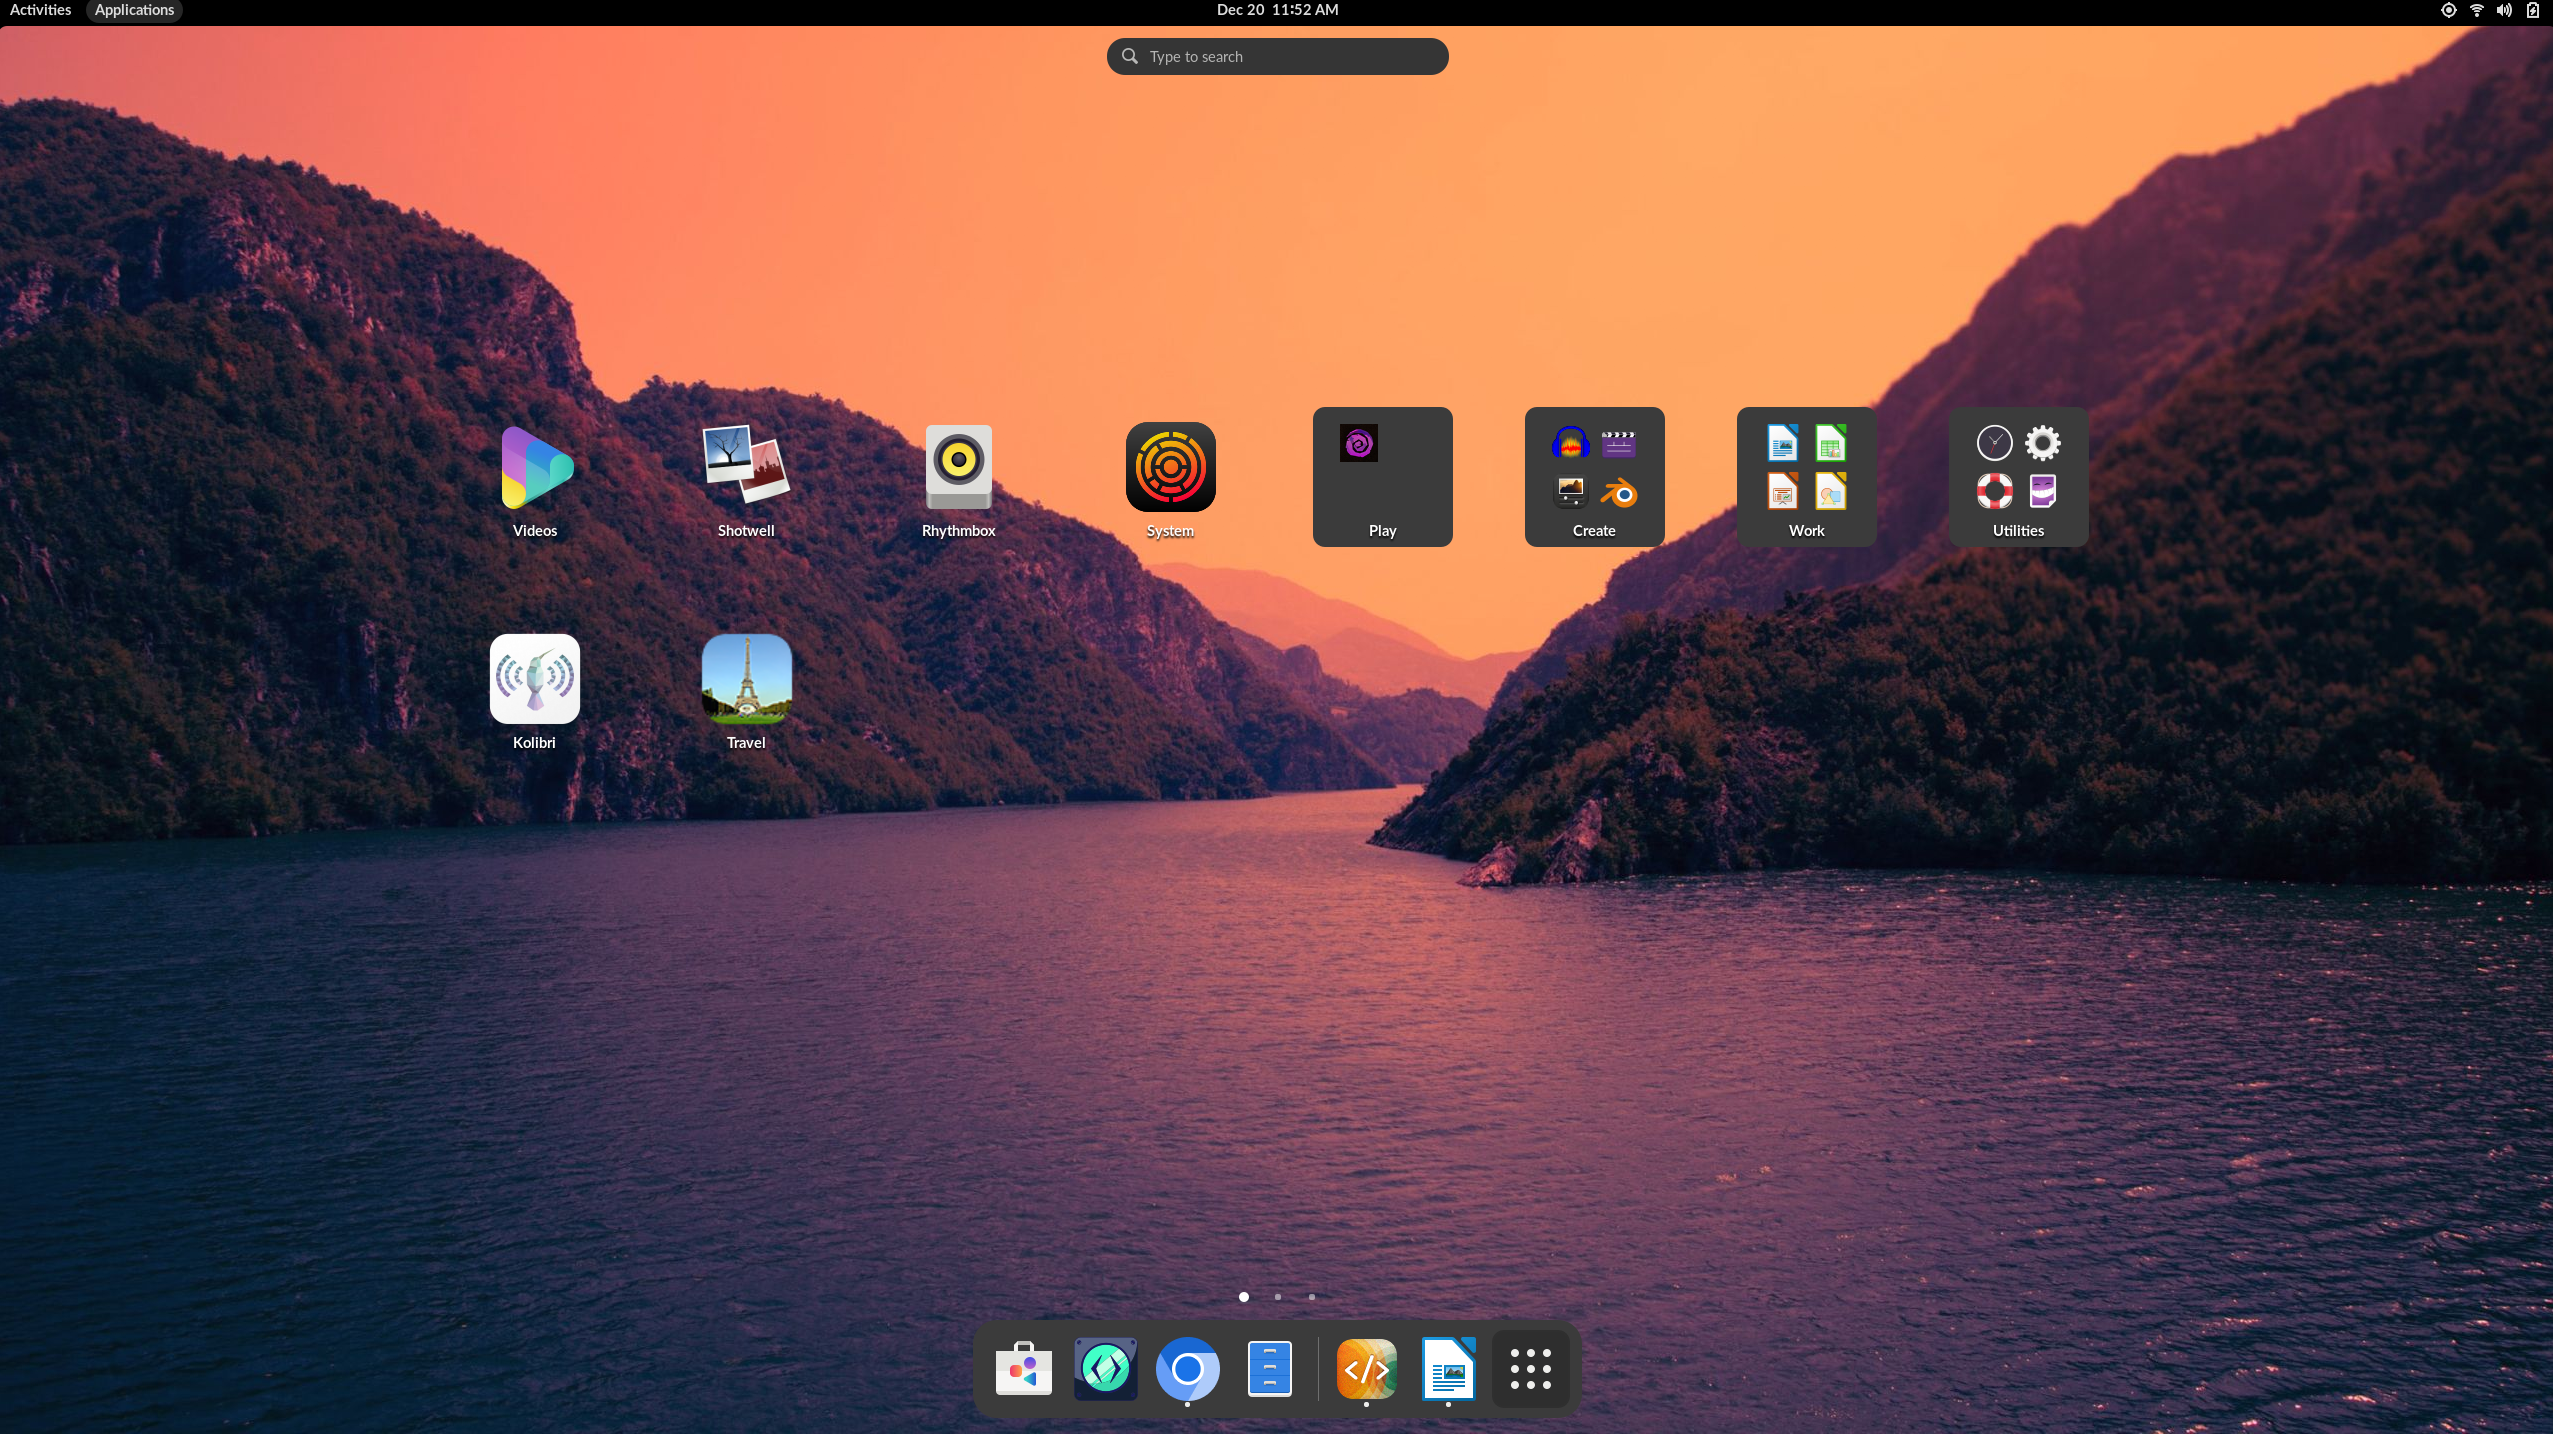search_box: (1105, 32, 1455, 81)
